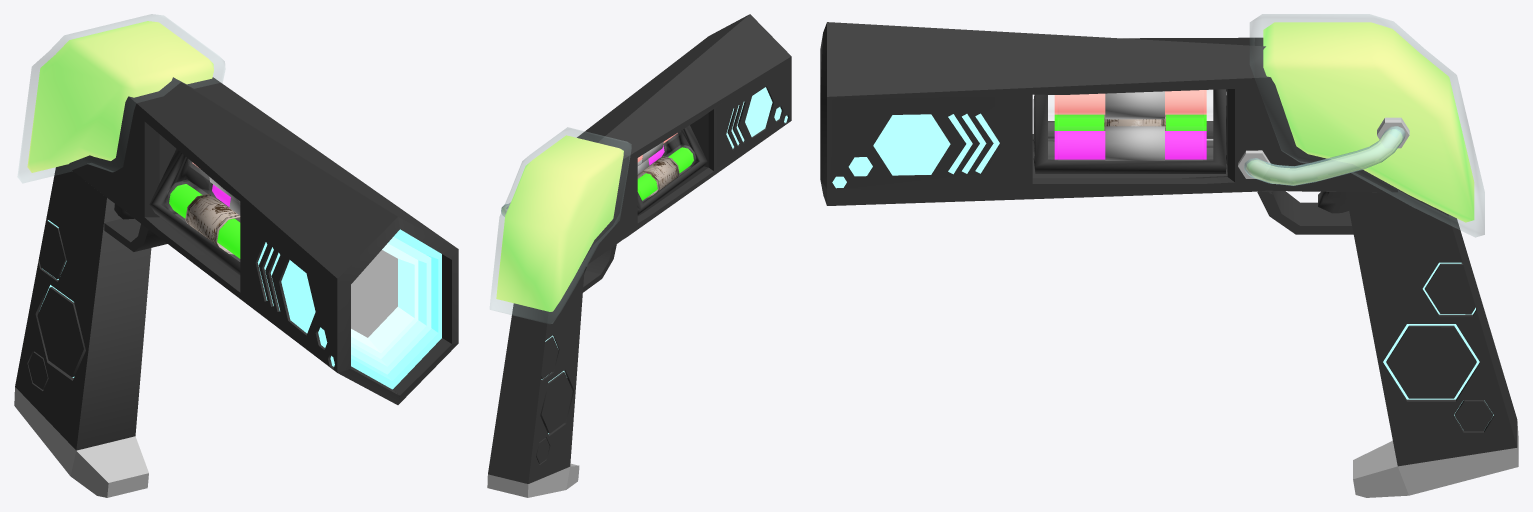
File: Gun.ver.1.0.0.fbx
3 renders of one model, left to right at view 1: azimuth 30°, elevation 25°; view 2: azimuth 150°, elevation 25°; view 3: azimuth 270°, elevation 25°, orthographic. The views are drawn at different scales.
Parts seen in each view (by area): view 1: 円柱, 立方体.003, 立方体.006, 立方体.005, 円柱.020, 円柱.013, 円柱.002, 円柱.011, 円柱.012, 平面.001, 円.003, 円柱.024; view 2: 円柱, 立方体.003, 立方体.006, 立方体.005, 円柱.002, 平面.001, 円柱.024, 円.003; view 3: 円柱, 立方体.003, 立方体.006, 平面.001, 立方体.005, 円柱.002, 円柱.015, 円柱.016, 円柱.007, 円柱.023, 円.002, 円.001 (+2 smaller).
Part boxes in pixels (x1,y1,x2,y2): 円柱: (15,77,458,450); 立方体.003: (17,14,225,183); 立方体.006: (27,21,213,172); 立方体.005: (14,387,148,497); 円柱.020: (351,250,397,337); 円柱.013: (351,243,418,358); 円柱.002: (149,149,240,274); 円柱.011: (351,229,441,389); 円柱.012: (351,237,431,374); 平面.001: (41,220,334,377); 円.003: (185,194,240,254); 円柱.024: (169,184,240,258); 円柱: (488,14,791,483); 立方体.003: (490,127,631,323); 立方体.006: (496,135,623,311); 立方体.005: (487,463,579,497); 円柱.002: (637,125,707,214); 平面.001: (541,87,787,433); 円柱.024: (637,147,693,200); 円.003: (637,156,679,197); 円柱: (820,22,1517,466); 立方体.003: (1250,14,1484,237); 立方体.006: (1263,22,1474,222); 平面.001: (832,113,1493,425); 立方体.005: (1353,421,1518,497); 円柱.002: (1033,89,1226,173); 円柱.015: (1244,126,1405,185); 円柱.016: (1246,130,1402,185); 円柱.007: (1054,131,1206,159); 円柱.023: (1054,90,1206,114); 円.002: (1105,126,1164,160); 円.001: (1105,91,1164,119).
Bounding box in the file's own units: 184 × 587 × 801.
